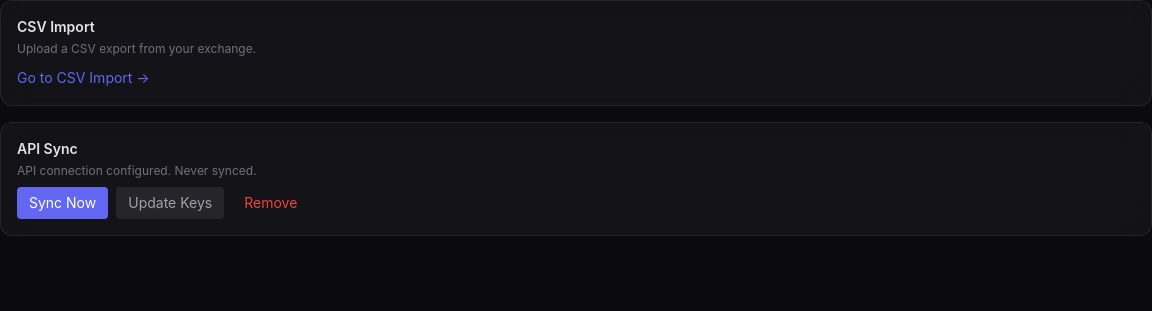
Test case: WalletImportSync › shows sync error
Click the button "Sync Now". click: (63, 203)
box: [17,187,108,219]
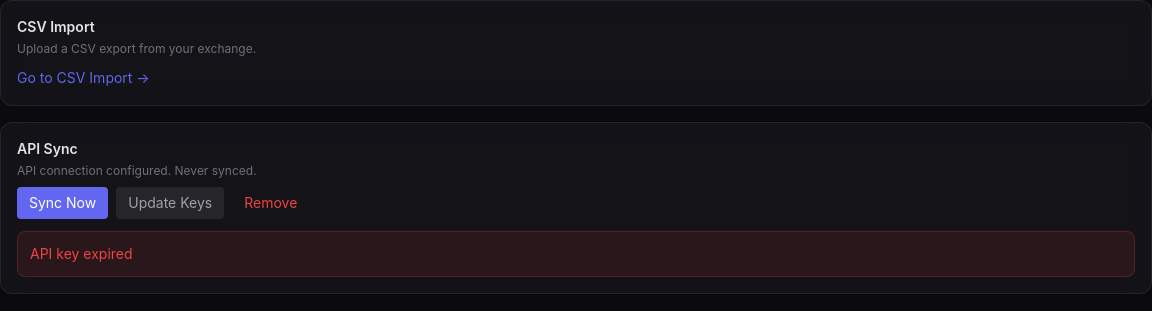
Expected: the text "API key expired" is shown, [17,231,1135,277]
